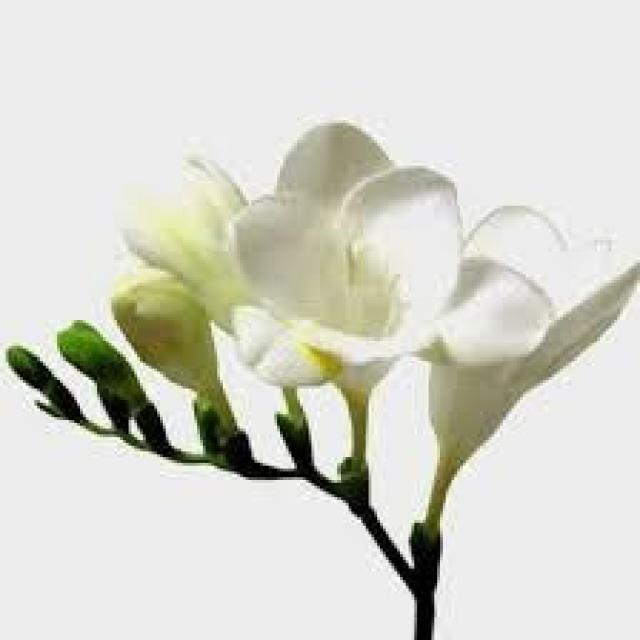freesia: (125, 128, 637, 480)
